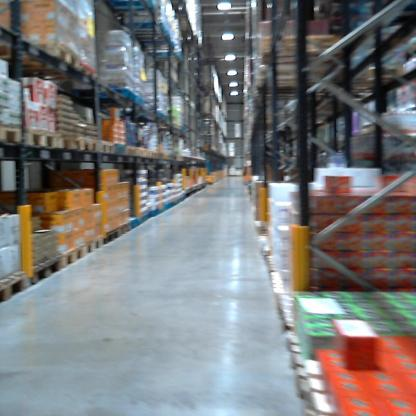pallet: (284, 332, 389, 401), (256, 31, 366, 62), (7, 39, 81, 71), (31, 256, 63, 299), (2, 263, 32, 306), (22, 126, 53, 153), (62, 240, 85, 275), (97, 224, 122, 254), (52, 128, 80, 154), (76, 129, 100, 155), (2, 122, 24, 149), (85, 235, 105, 259), (96, 137, 115, 157)
